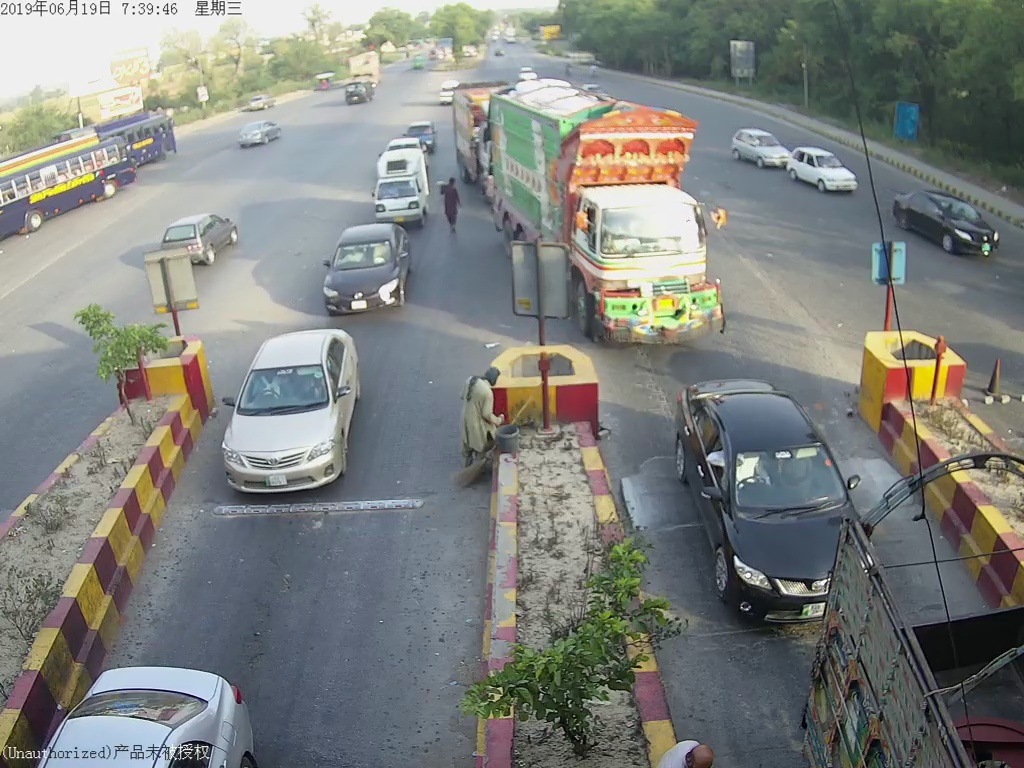Cat-1: (675, 374, 856, 615), (216, 330, 370, 488), (321, 229, 417, 317), (368, 144, 428, 222)
Cat-4: (497, 95, 726, 345)
